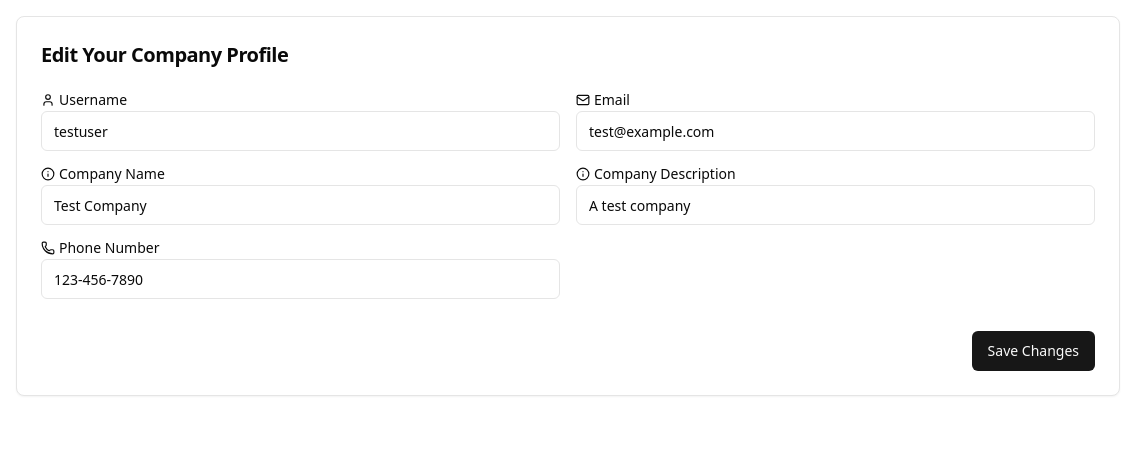
Test: EditCompanyProfile › handles successful form submission
The image size is (1137, 471).
Note: Update form fields
Replace the text in the field labelled "Company Name" with "Updated Company Name" at coordinates (300, 205), box 41,185 -> 560,225
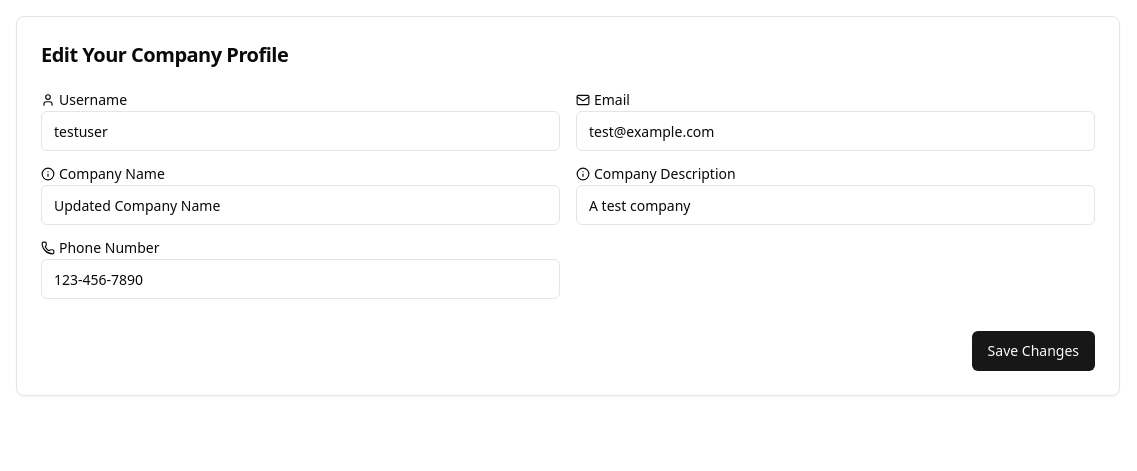
Replace the text in the field labelled "Company Description" with "Updated company description" at coordinates (836, 205), box 576,185 -> 1095,225
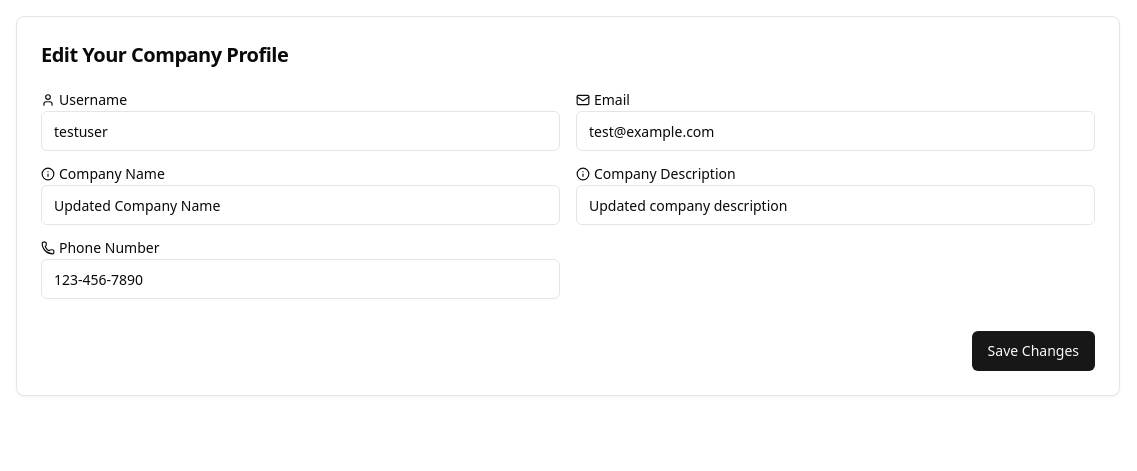
Note: Submit the form
Submit the form from the button "Save Changes", box 972,331 -> 1095,371
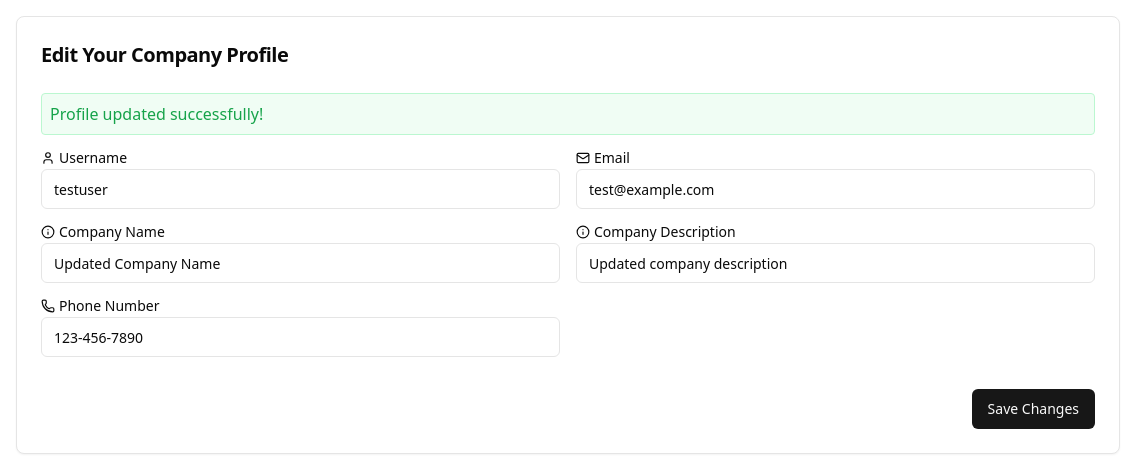
Expected: the text "Profile updated successfully!" is shown, 41,93 -> 1095,135
